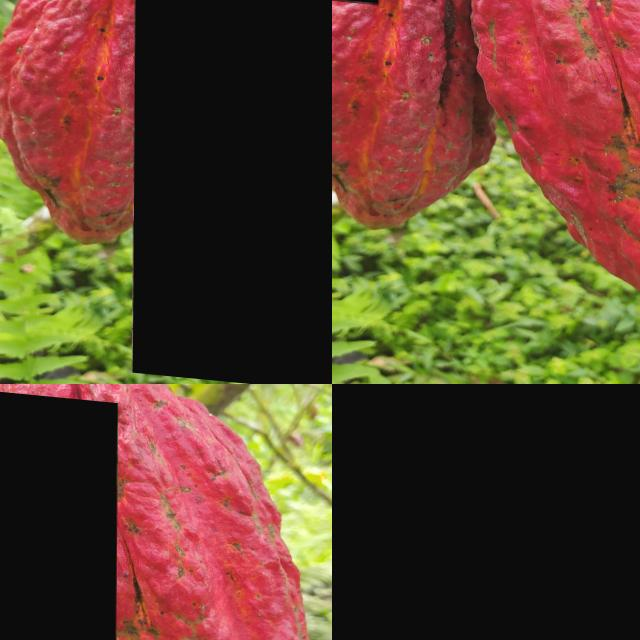Sana: (332, 384, 640, 640), (133, 0, 332, 384), (0, 384, 118, 640), (351, 97, 399, 182), (404, 0, 442, 79), (332, 99, 358, 188), (613, 10, 640, 66), (382, 22, 406, 80)
